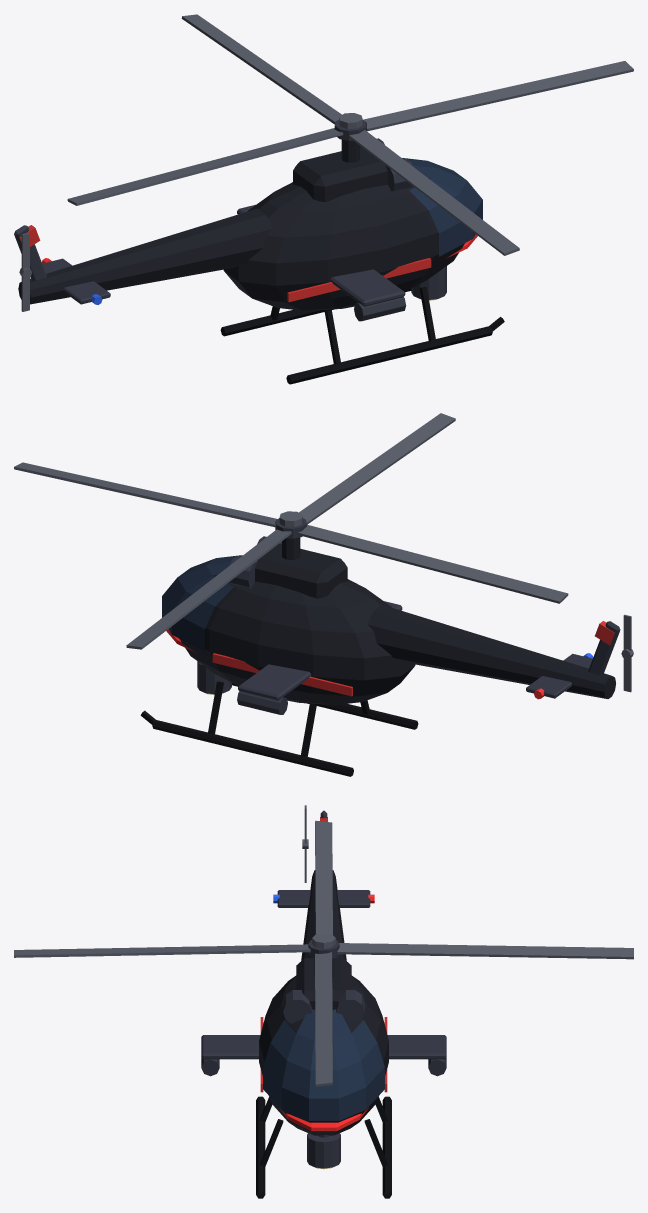
File: chopper.glb
3 renders of one model, top to bottom at view 1: azimuth 30°, elevation 25°; view 2: azimuth 150°, elevation 25°; view 3: azimuth 270°, elevation 25°, orthographic. The views are drawn at different scales.
Visible parts, largest first — view 1: Chopper, ChopperRotor, ChopperTail; view 2: Chopper, ChopperRotor, ChopperTail; view 3: Chopper, ChopperRotor.
Part boxes in pixels (box(x1,y1,x2,y2)): Chopper: box(14, 120, 504, 384); ChopperRotor: box(67, 14, 633, 255); ChopperTail: box(19, 232, 31, 311); Chopper: box(140, 518, 620, 776); ChopperRotor: box(14, 413, 568, 649); ChopperTail: box(621, 614, 633, 692); Chopper: box(201, 810, 446, 1198); ChopperRotor: box(14, 820, 633, 1086).
Size of the model in its own units: 5.21 by 1.76 by 4.7.
